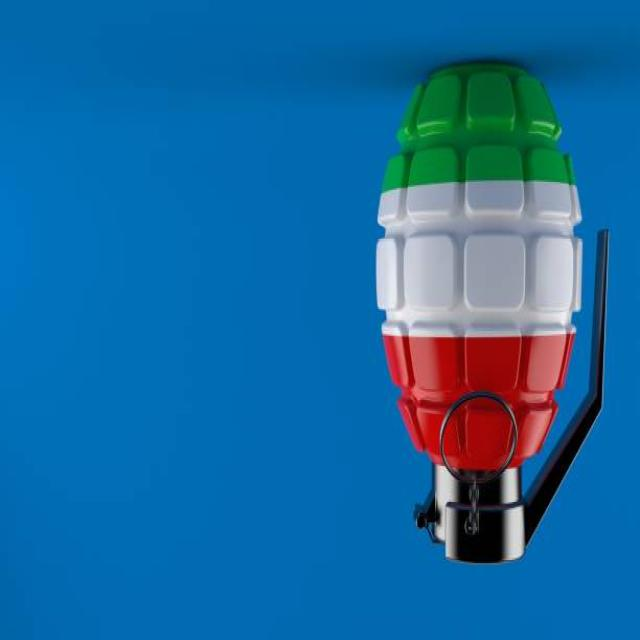grenade: (375, 58, 616, 575)
